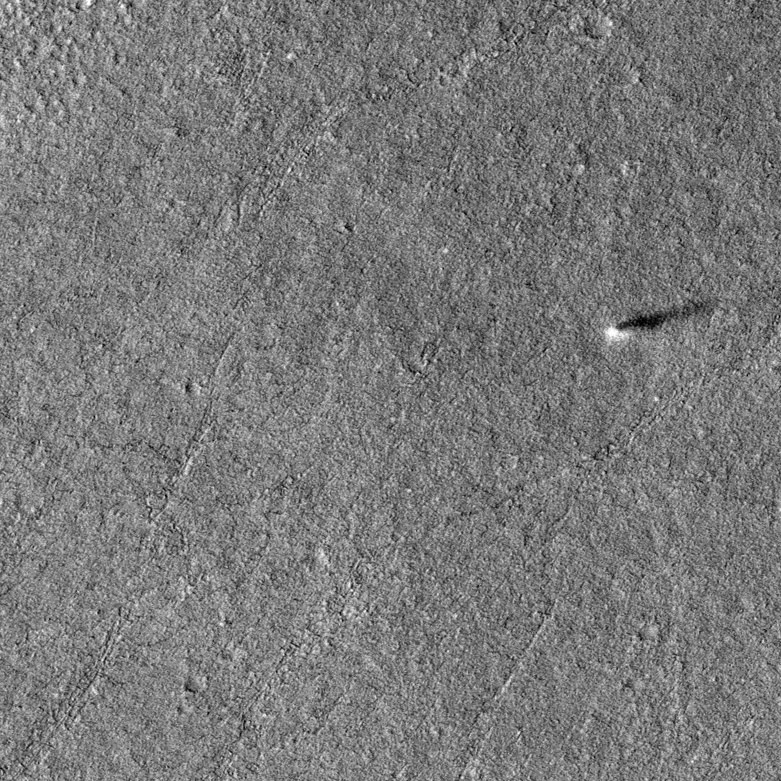dust_devil: (602, 294, 720, 341)
